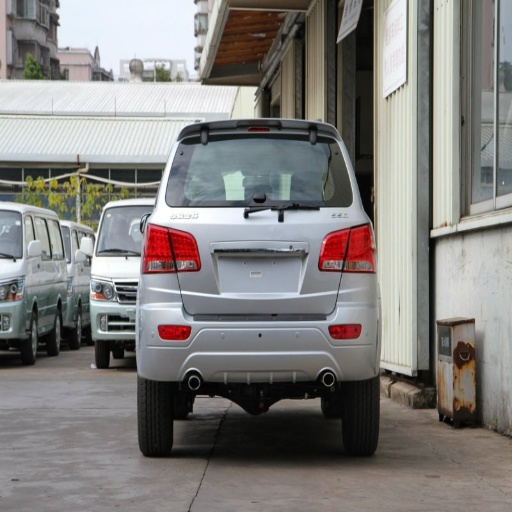back_bumper: (133, 272, 392, 378)
tailgate: (262, 220, 327, 314)
trunk: (166, 210, 355, 320)
